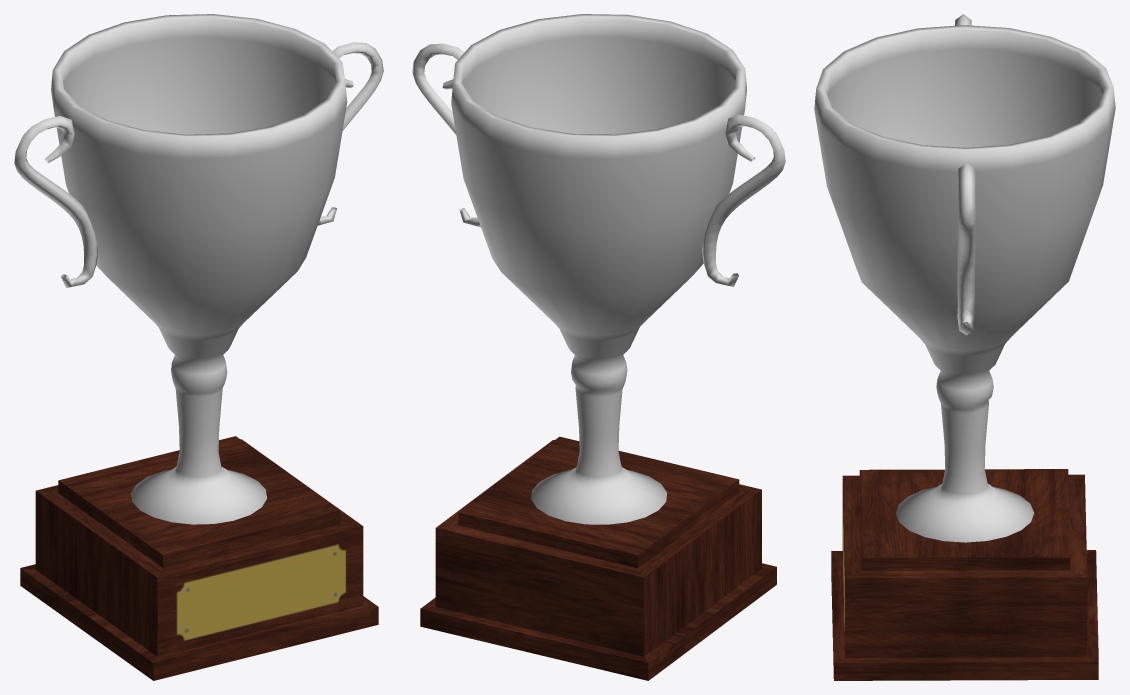
The model's file is Trophy.fbx.
3 renders of one model, left to right at view 1: azimuth 30°, elevation 25°; view 2: azimuth 150°, elevation 25°; view 3: azimuth 270°, elevation 25°, orthographic.
Parts seen in each view (by area): view 1: Trophy; view 2: Trophy; view 3: Trophy.
Boxes of the visible parts, x1=… form: Trophy: x1=14, y1=14, x2=383, y2=680; Trophy: x1=412, y1=14, x2=785, y2=680; Trophy: x1=814, y1=14, x2=1115, y2=680.
Size of the model in its own units: 49.91 by 68.03 by 34.66.
